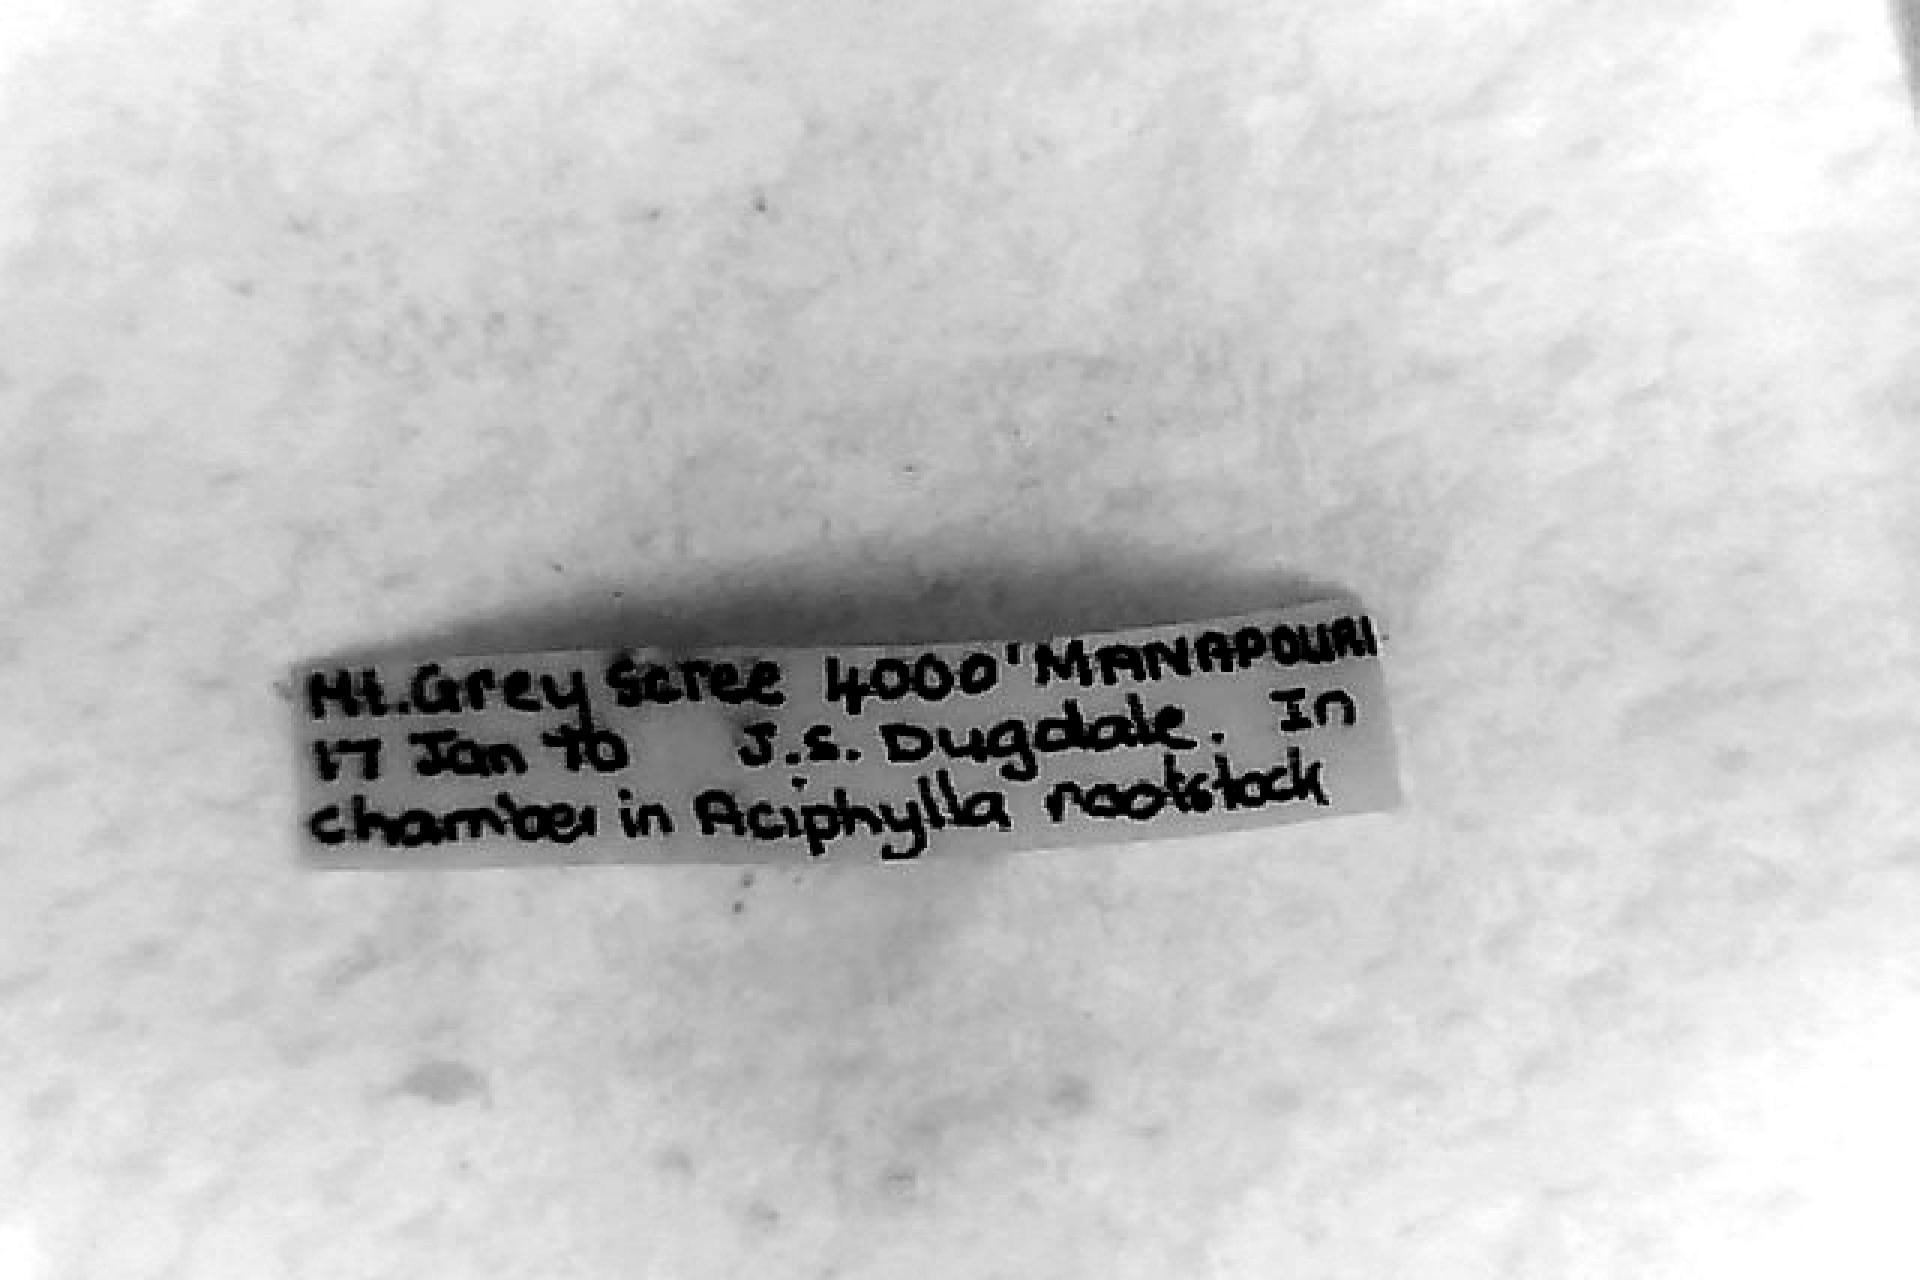hand_label: (300, 600, 1399, 867)
